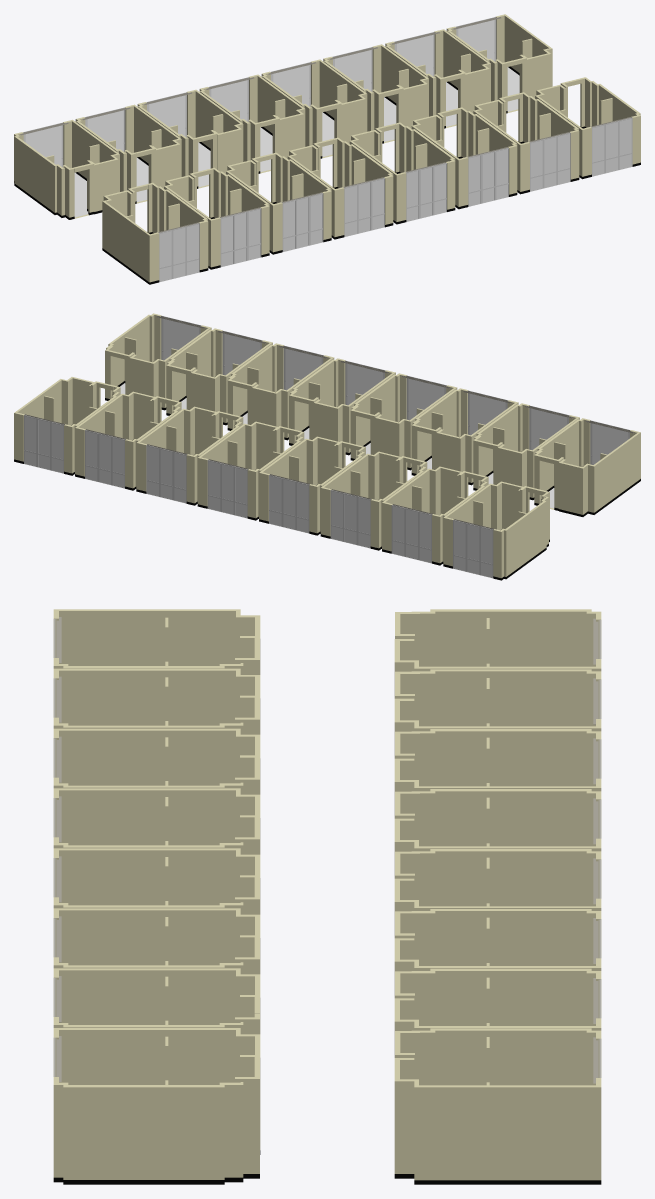
The model's file is InnerWall.fbx.
The picture shows the model from 3 angles, top to bottom: view 1: azimuth 30°, elevation 25°; view 2: azimuth 150°, elevation 25°; view 3: azimuth 270°, elevation 25°; orthographic projection. The views are drawn at different scales.
Visible parts, largest first — view 1: 02_INNERWALL; view 2: 02_INNERWALL; view 3: 02_INNERWALL.
Boxes of the visible parts, x1,y1,x2,y2 form: 02_INNERWALL: (14,14,640,284); 02_INNERWALL: (14,313,640,580); 02_INNERWALL: (53,609,601,1184).
Bounding box in the file's own units: 76.22 × 7.47 × 36.9.
